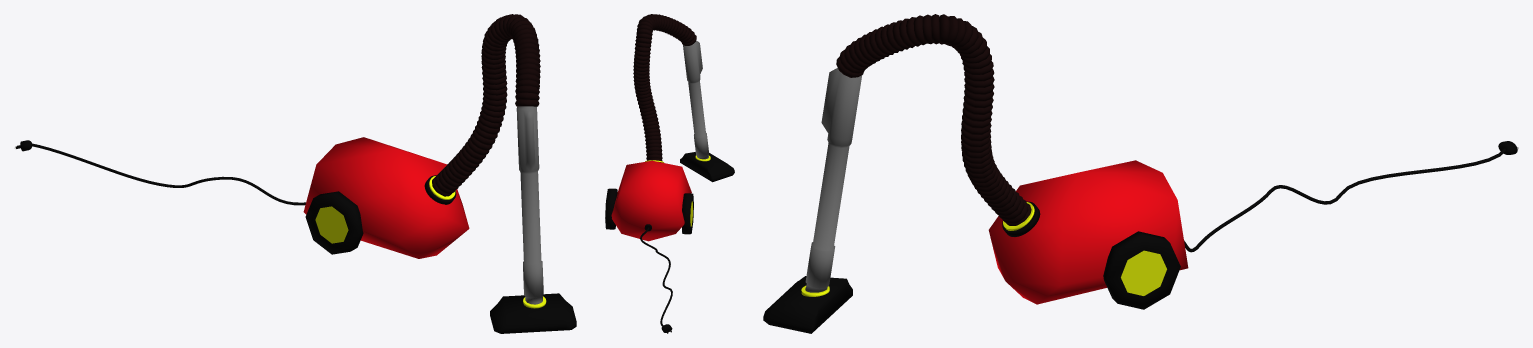
File: vacuum-cleaner-e93b16f3b0.glb
3 views of the same model, side by side, from view 1: azimuth 30°, elevation 25°; view 2: azimuth 150°, elevation 25°; view 3: azimuth 270°, elevation 25° (orthographic). The views are drawn at different scales.
Parts seen in each view (by area): view 1: Base, Control, Manche, Cylinder.001, Cube.001, BézierCurve; view 2: Base, Control, Manche, Cube.001, Cylinder.001, Cylinder.004, BézierCurve; view 3: Base, Control, Manche, Cylinder.004, Cube.001, BézierCurve.
Boxes of the visible parts, <box> form: Base: <box>303,137,469,258</box>; Control: <box>432,14,540,196</box>; Manche: <box>516,106,543,304</box>; Cylinder.001: <box>305,191,363,254</box>; Cube.001: <box>490,293,576,333</box>; BézierCurve: <box>31,143,305,205</box>; Base: <box>611,160,691,241</box>; Control: <box>633,14,696,161</box>; Manche: <box>683,40,708,159</box>; Cube.001: <box>680,152,734,182</box>; Cylinder.001: <box>682,193,693,234</box>; Cylinder.004: <box>605,188,617,229</box>; BézierCurve: <box>640,227,672,326</box>; Base: <box>988,160,1188,304</box>; Control: <box>836,14,1031,225</box>; Manche: <box>805,67,862,292</box>; Cylinder.004: <box>1103,231,1180,309</box>; Cube.001: <box>763,276,852,333</box>; BézierCurve: <box>1184,148,1505,252</box>.
Bounding box in the file's own units: 4.54 × 4 × 8.6.
